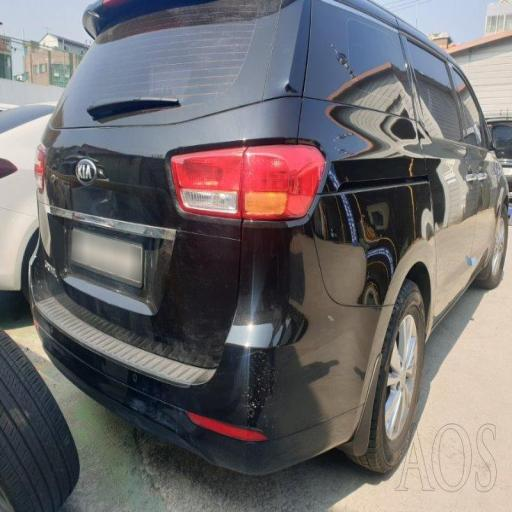scratch: (100, 184, 274, 481)
